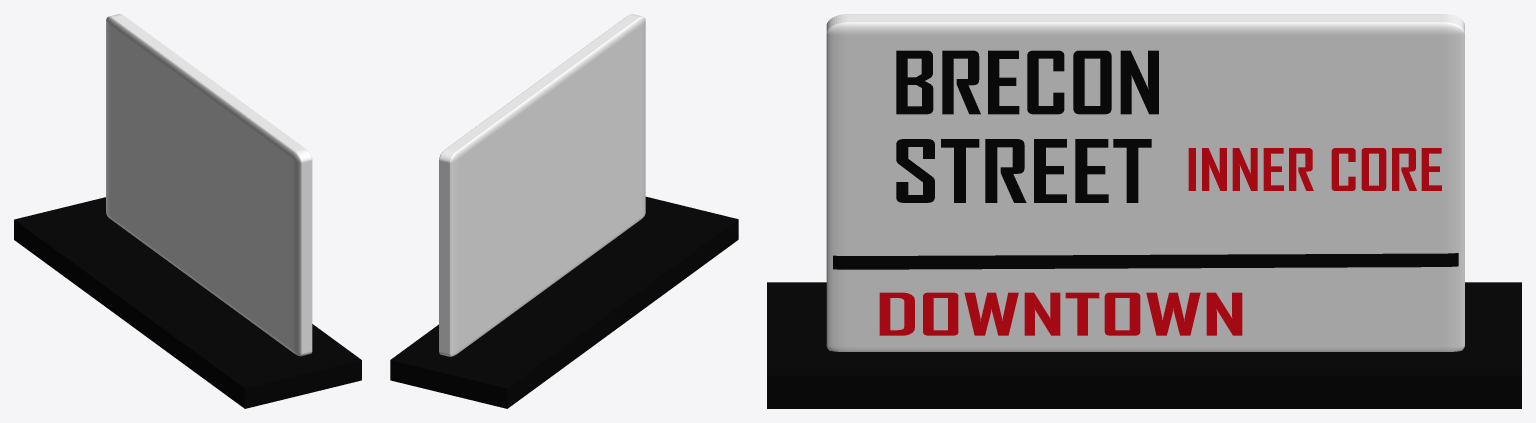
File: uk_styled_street_sign_69.fbx
3 views of the same model, side by side, from view 1: azimuth 30°, elevation 25°; view 2: azimuth 150°, elevation 25°; view 3: azimuth 270°, elevation 25° (orthographic). The views are drawn at different scales.
Visible parts, largest first — view 1: Cube, Cube.001; view 2: Cube, Cube.001; view 3: Cube, Cube.001, Text, Text.002, Text.001, Text.003.
Part boxes in pixels (x1=…): Cube: x1=106, y1=14, x2=312, y2=356; Cube.001: x1=14, y1=197, x2=361, y2=408; Cube: x1=439, y1=14, x2=645, y2=356; Cube.001: x1=390, y1=196, x2=738, y2=408; Cube: x1=826, y1=14, x2=1464, y2=351; Cube.001: x1=767, y1=282, x2=1521, y2=408; Text: x1=896, y1=50, x2=1158, y2=114; Text.002: x1=879, y1=292, x2=1242, y2=335; Text.001: x1=896, y1=139, x2=1151, y2=202; Text.003: x1=1188, y1=148, x2=1441, y2=190.
Bounding box in the file's own units: 12 × 21.71 × 41.07.
